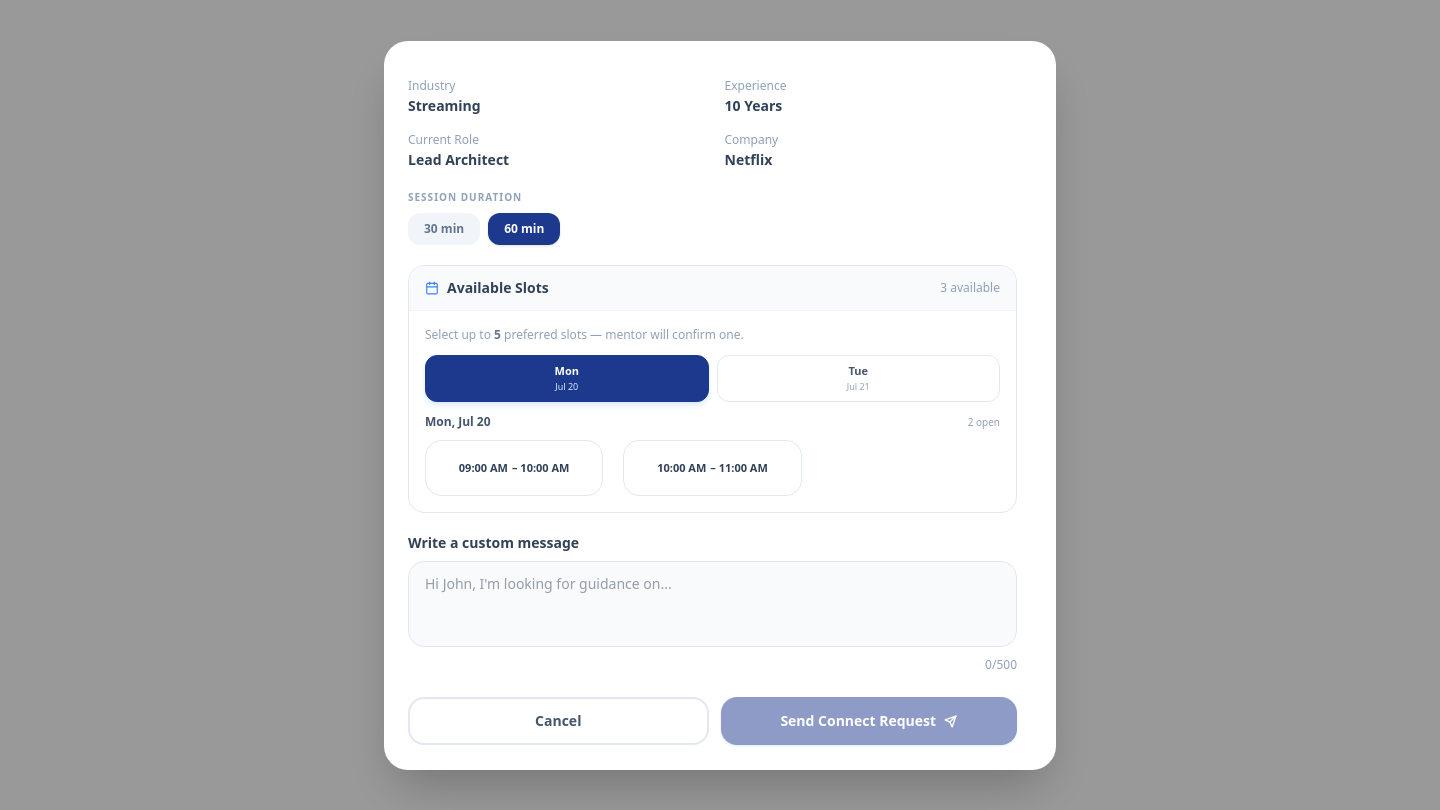
Scenario: MentorProfileModal › allows removing selected slot via the selection list remove button
(page scrolled)
Click the button "09:00 AM – 10:00 AM": [514, 468] box [425, 440, 603, 496]
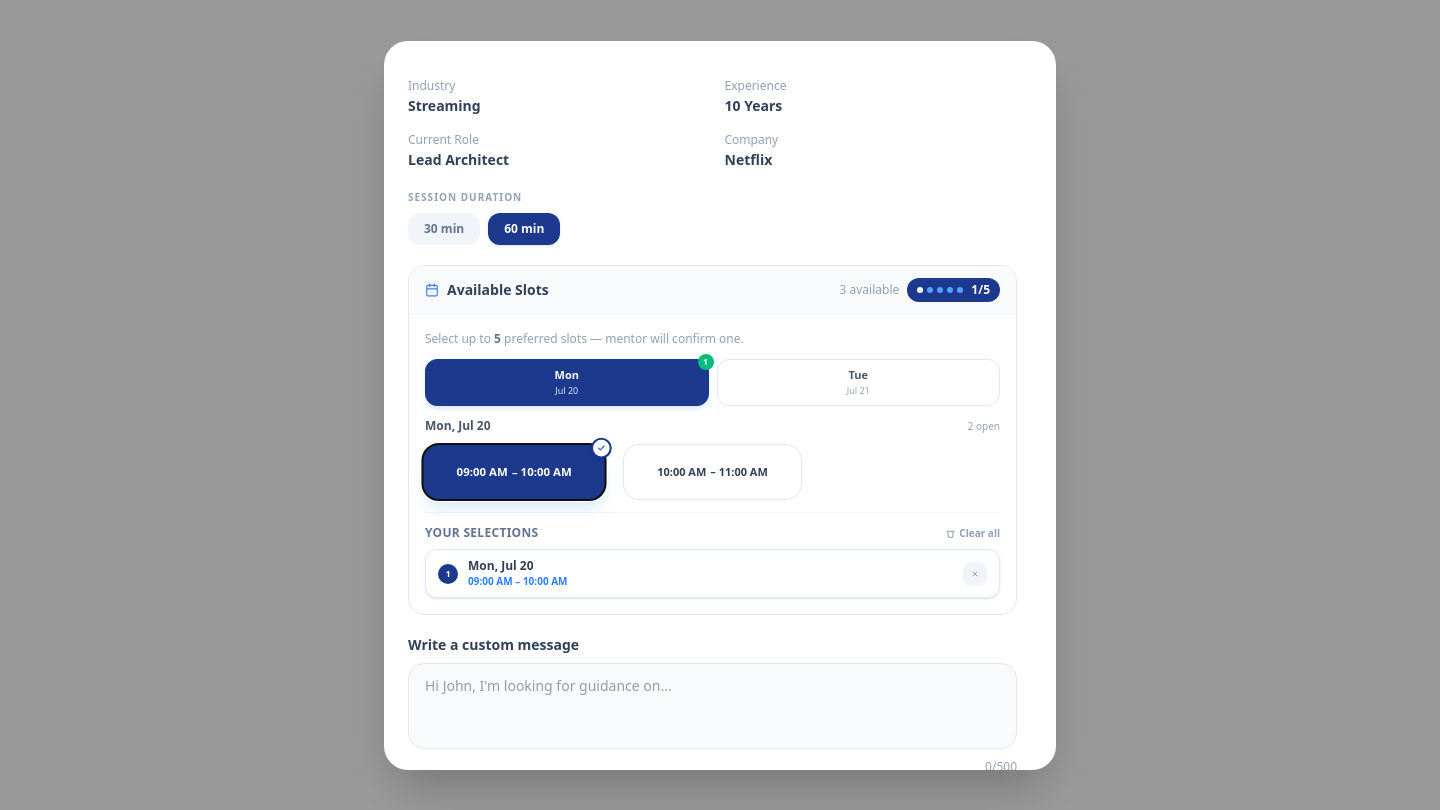
Click the button titled "Remove slot": [975, 574] box [963, 562, 987, 586]
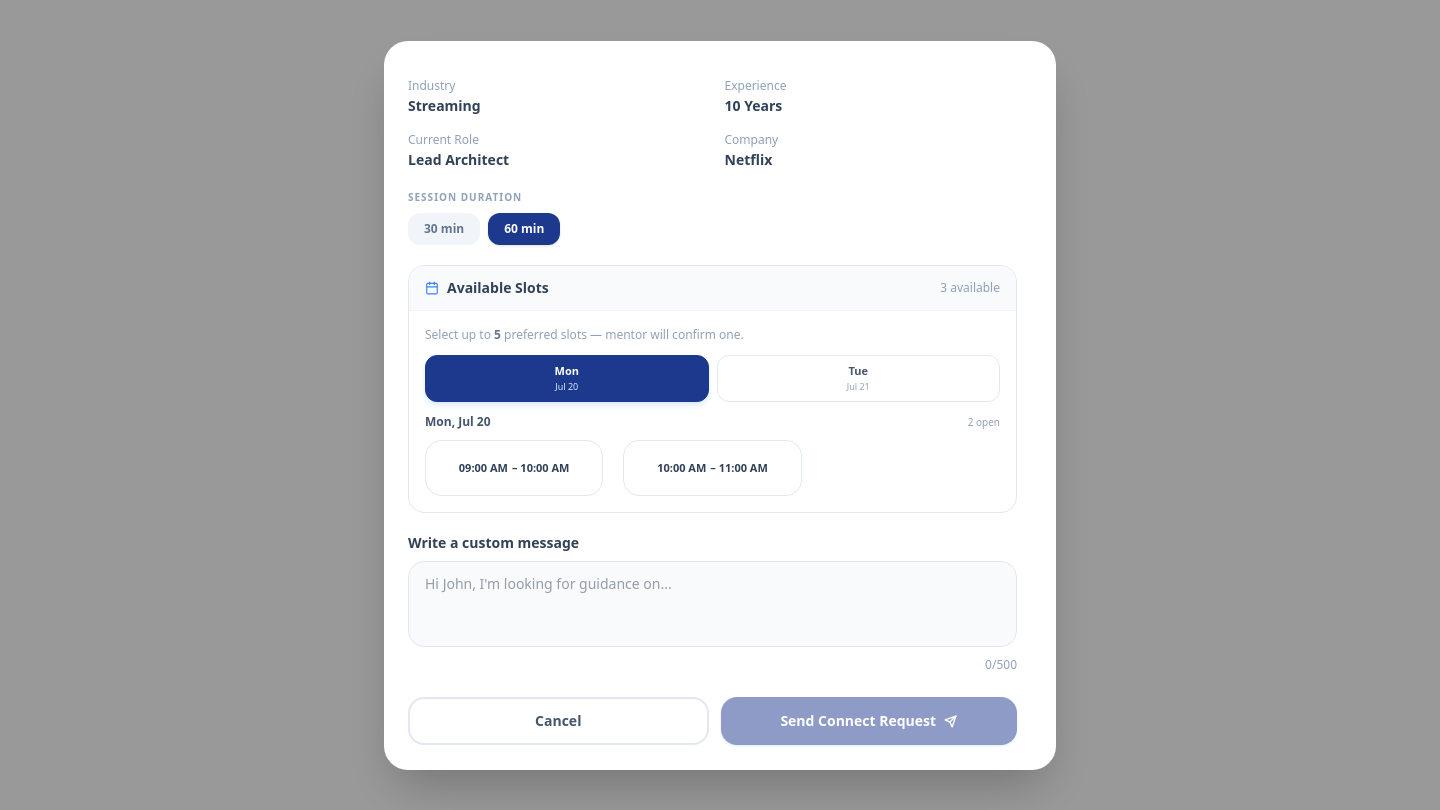
Expected: the text "Your selections" is gone
